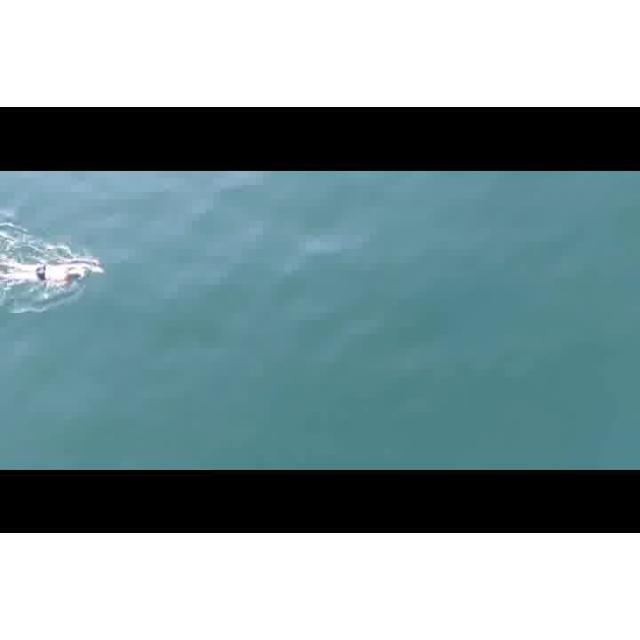human: (6, 264, 102, 281)
